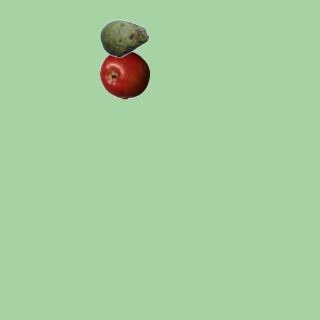Apple Braeburn: (99, 49, 149, 99)
Pear Stone: (99, 13, 149, 63)
